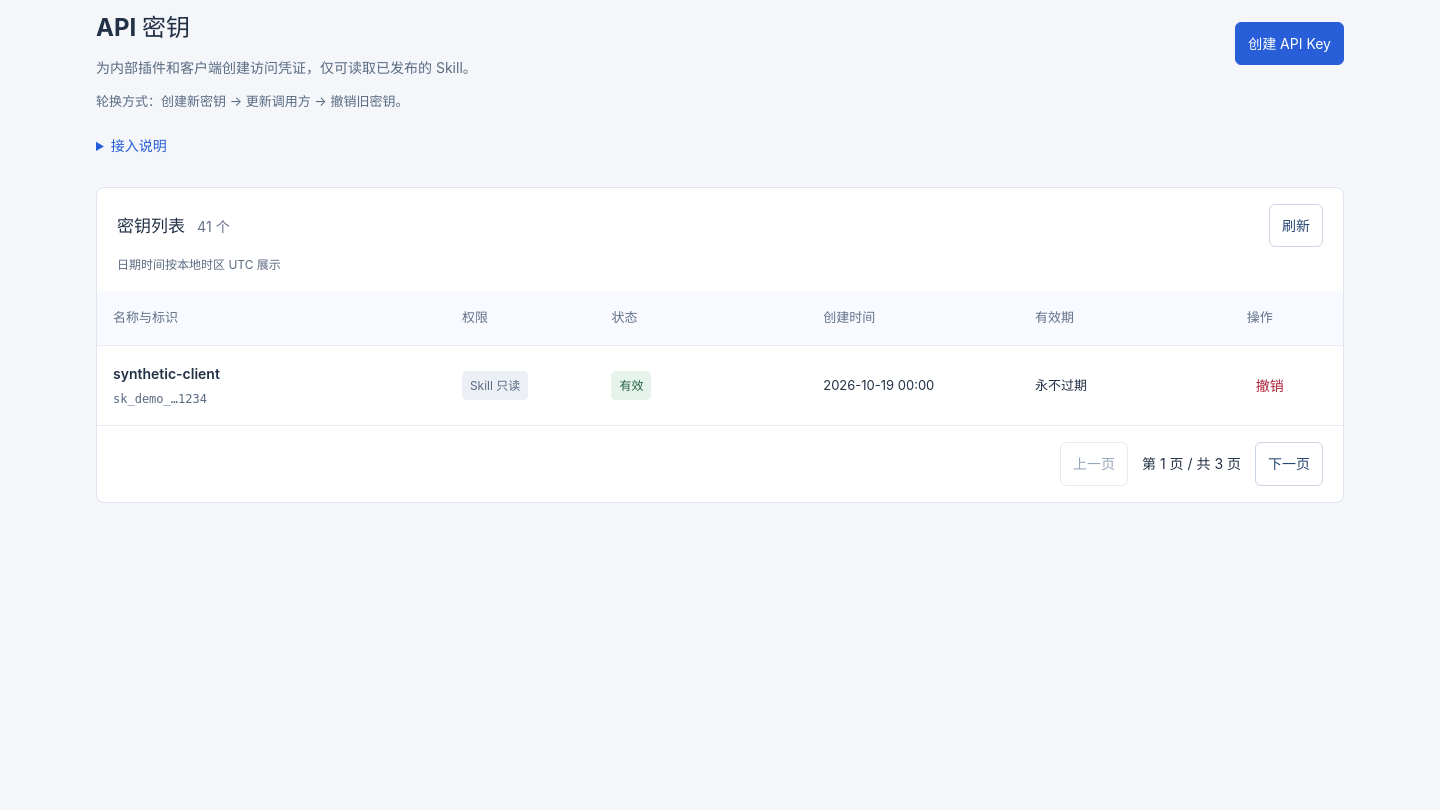
it: API Key 安全交互 › 创建断连不自动重试，保留名称并明确结果未知
Step 1. Click the button "创建 API Key" → (1290, 43), box left=1235, top=22, right=1344, bottom=65
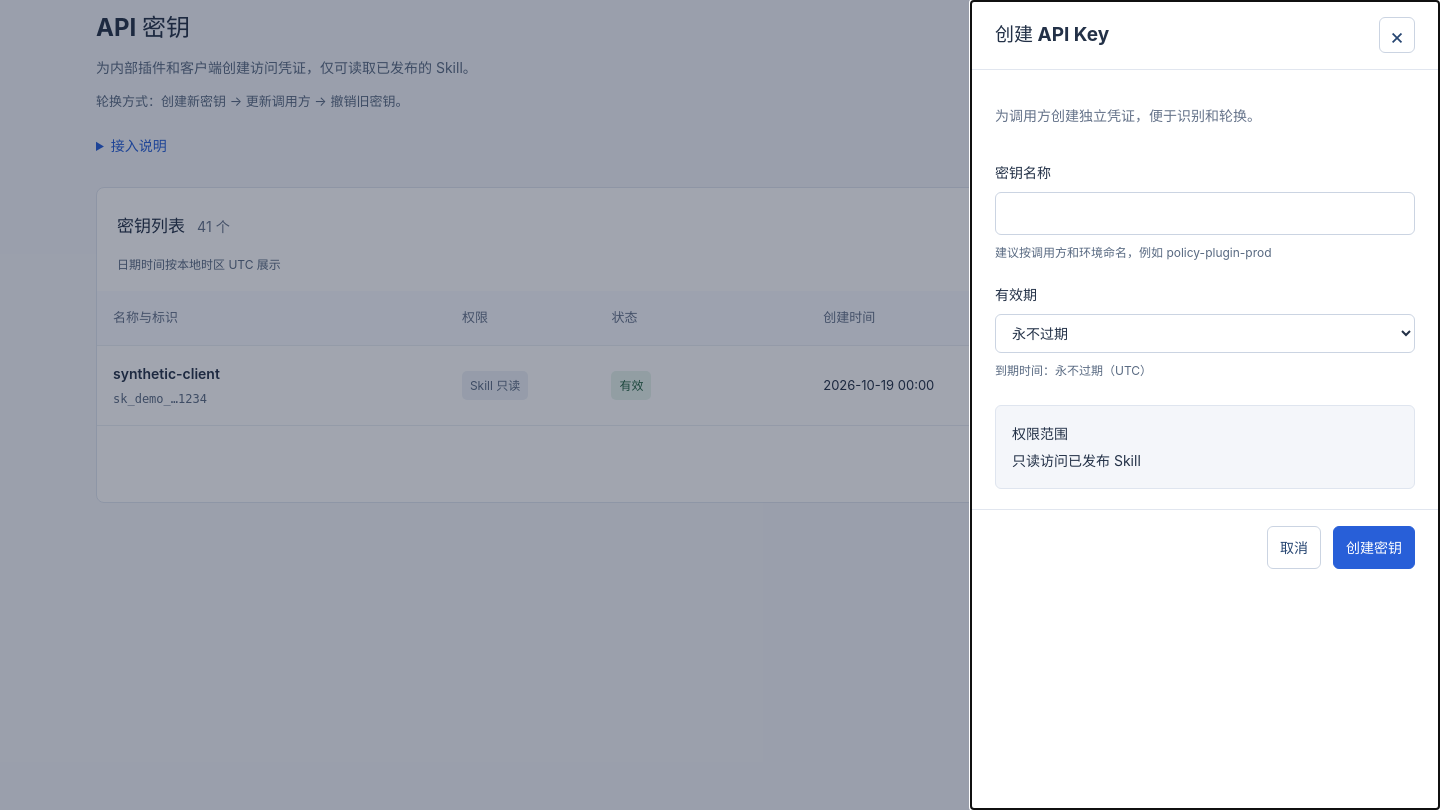
Step 2. Type "saved-draft" into the field with id "key-name" → (1205, 214), box left=995, top=192, right=1415, bottom=235
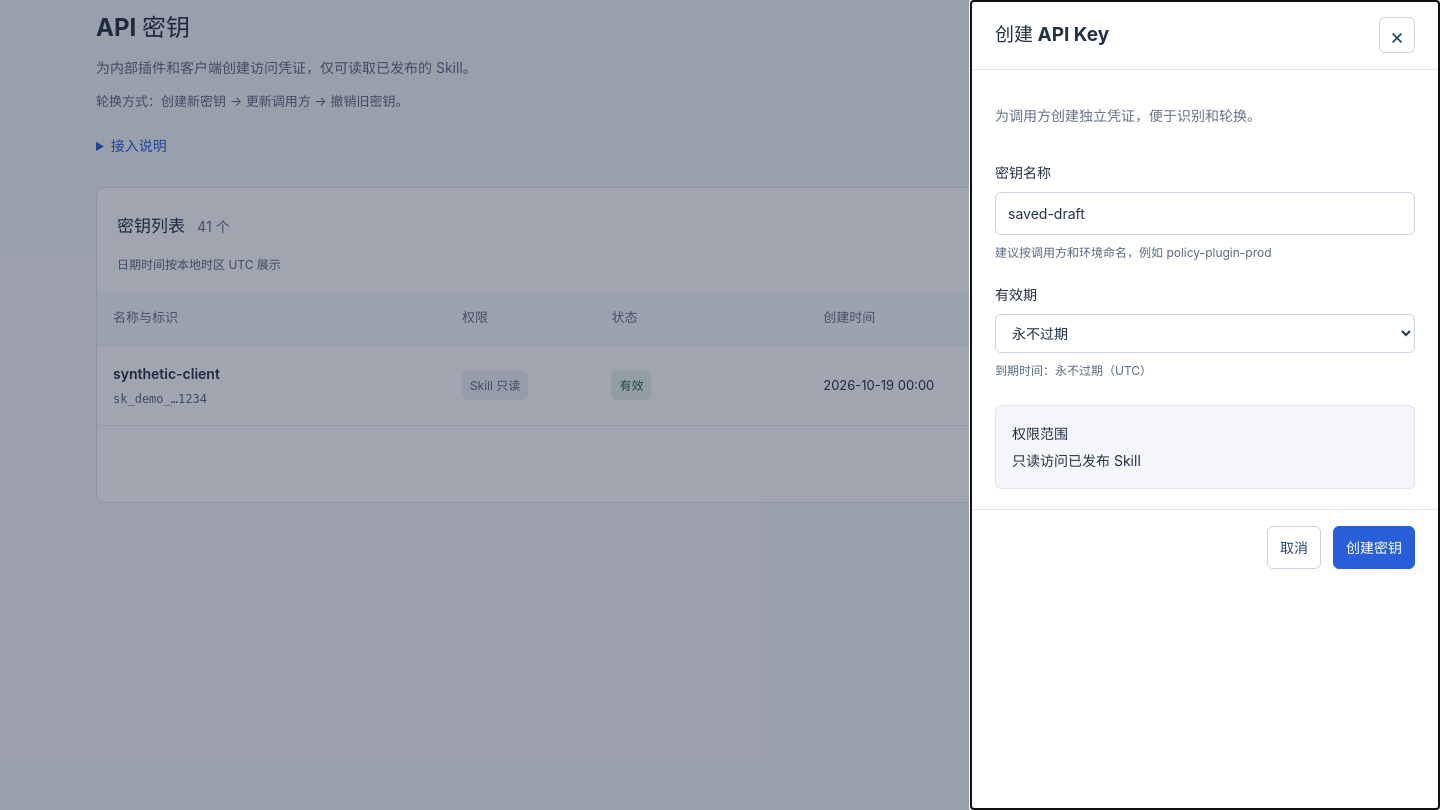
Step 3. Submit the form, box left=971, top=70, right=1439, bottom=809
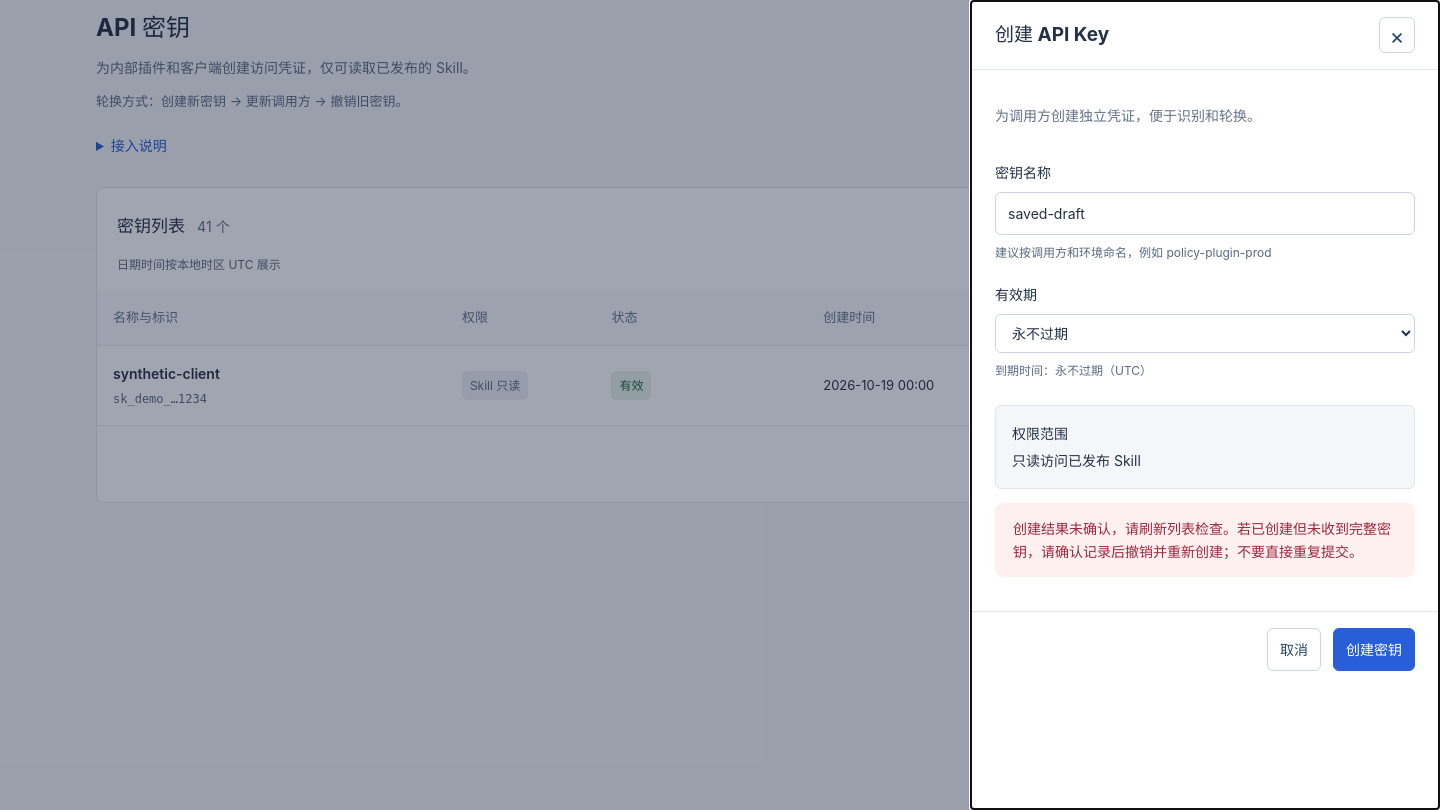
Expected: the text "创建结果未确认，请刷新列表检查" is shown, left=1013, top=520, right=1391, bottom=560
